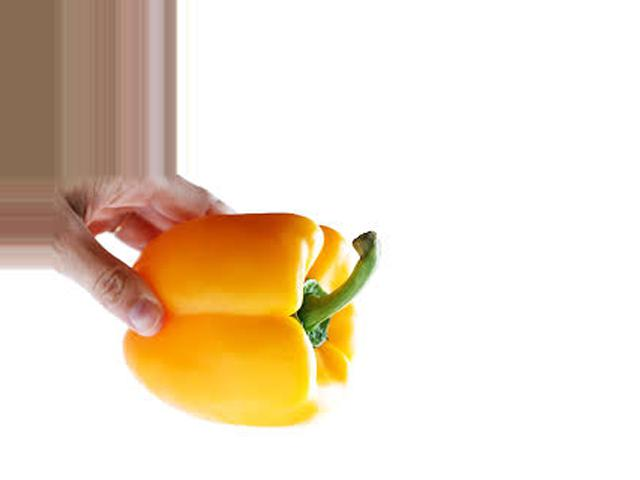bell_pepper: (117, 212, 389, 431)
